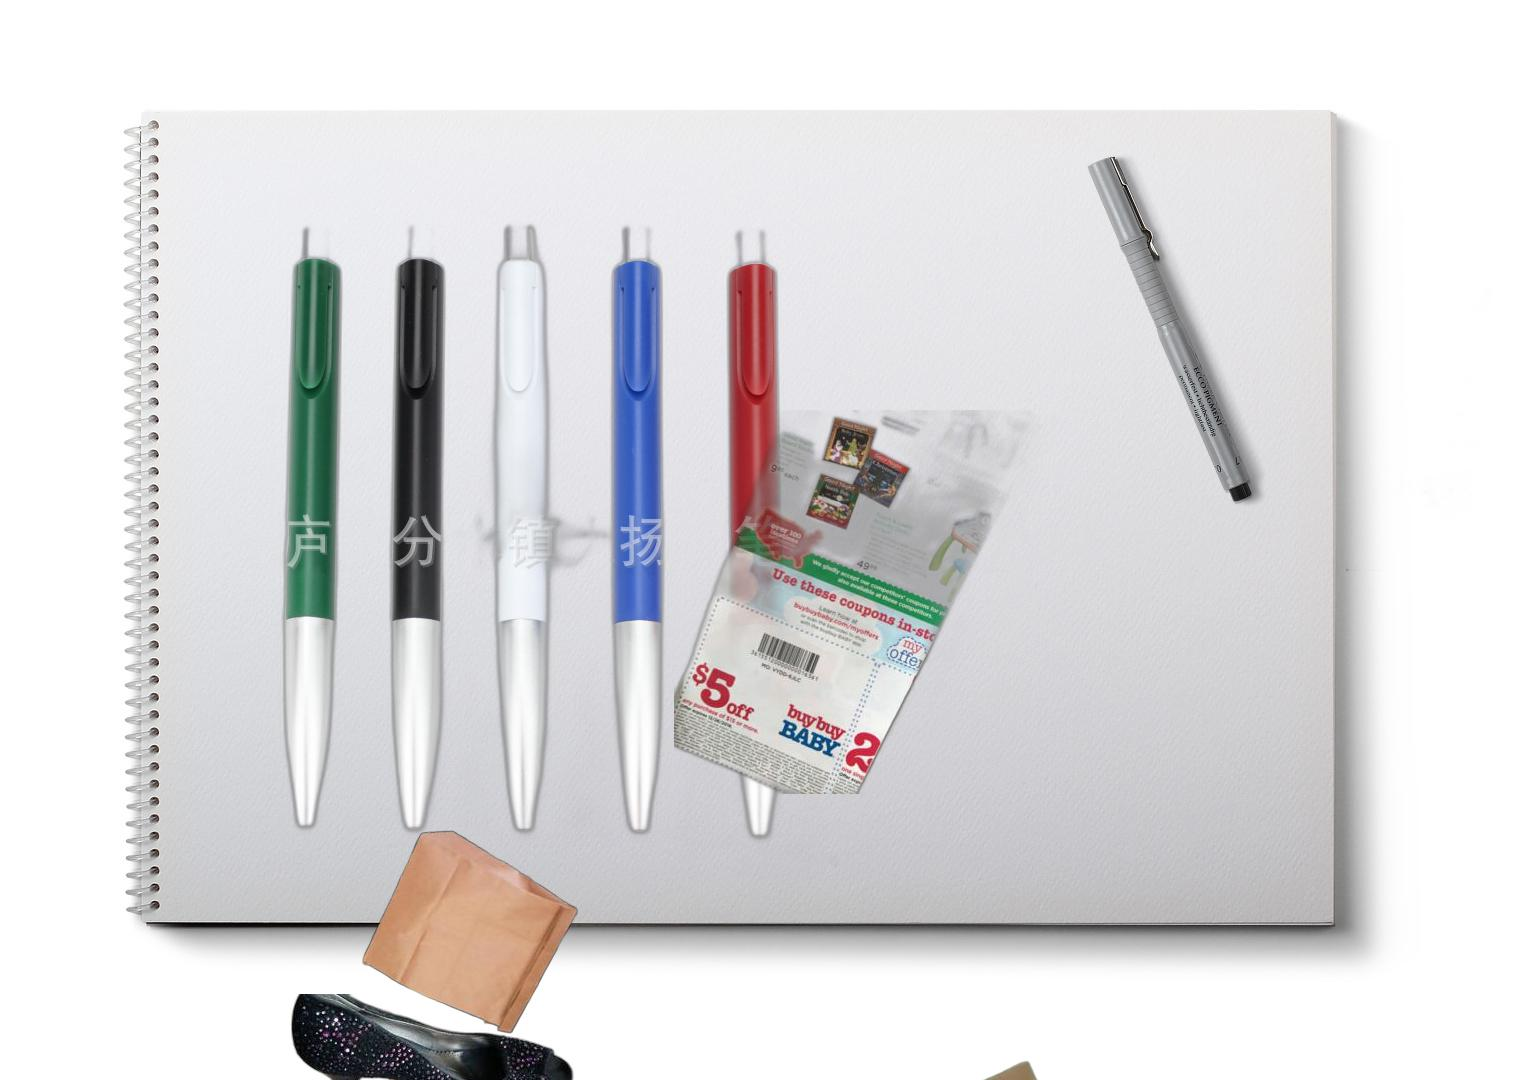paper: (674, 410, 1066, 794)
paper-bag: (360, 828, 579, 1036), (891, 1059, 1087, 1080)
penholder: (277, 219, 845, 885)
plastic-bag: (279, 1030, 522, 1080)
shoes: (186, 994, 612, 1080)
trashbox-cardboard: (1346, 187, 1527, 572), (1525, 691, 1527, 857)
